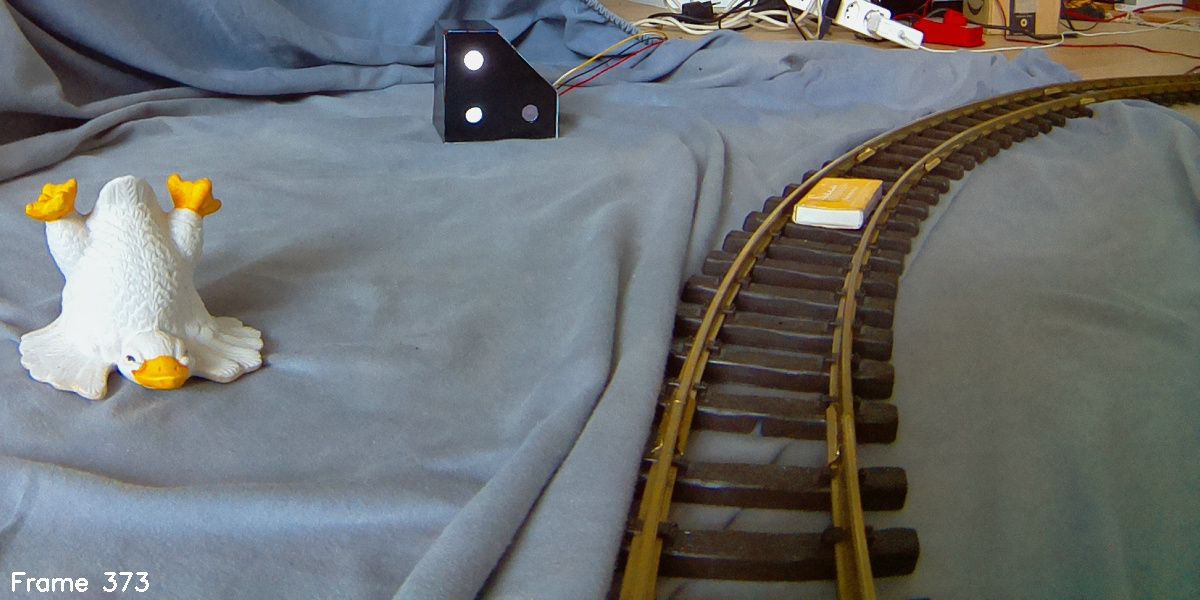Ente: (24, 172, 270, 402)
Fahrt: (433, 16, 560, 142)
